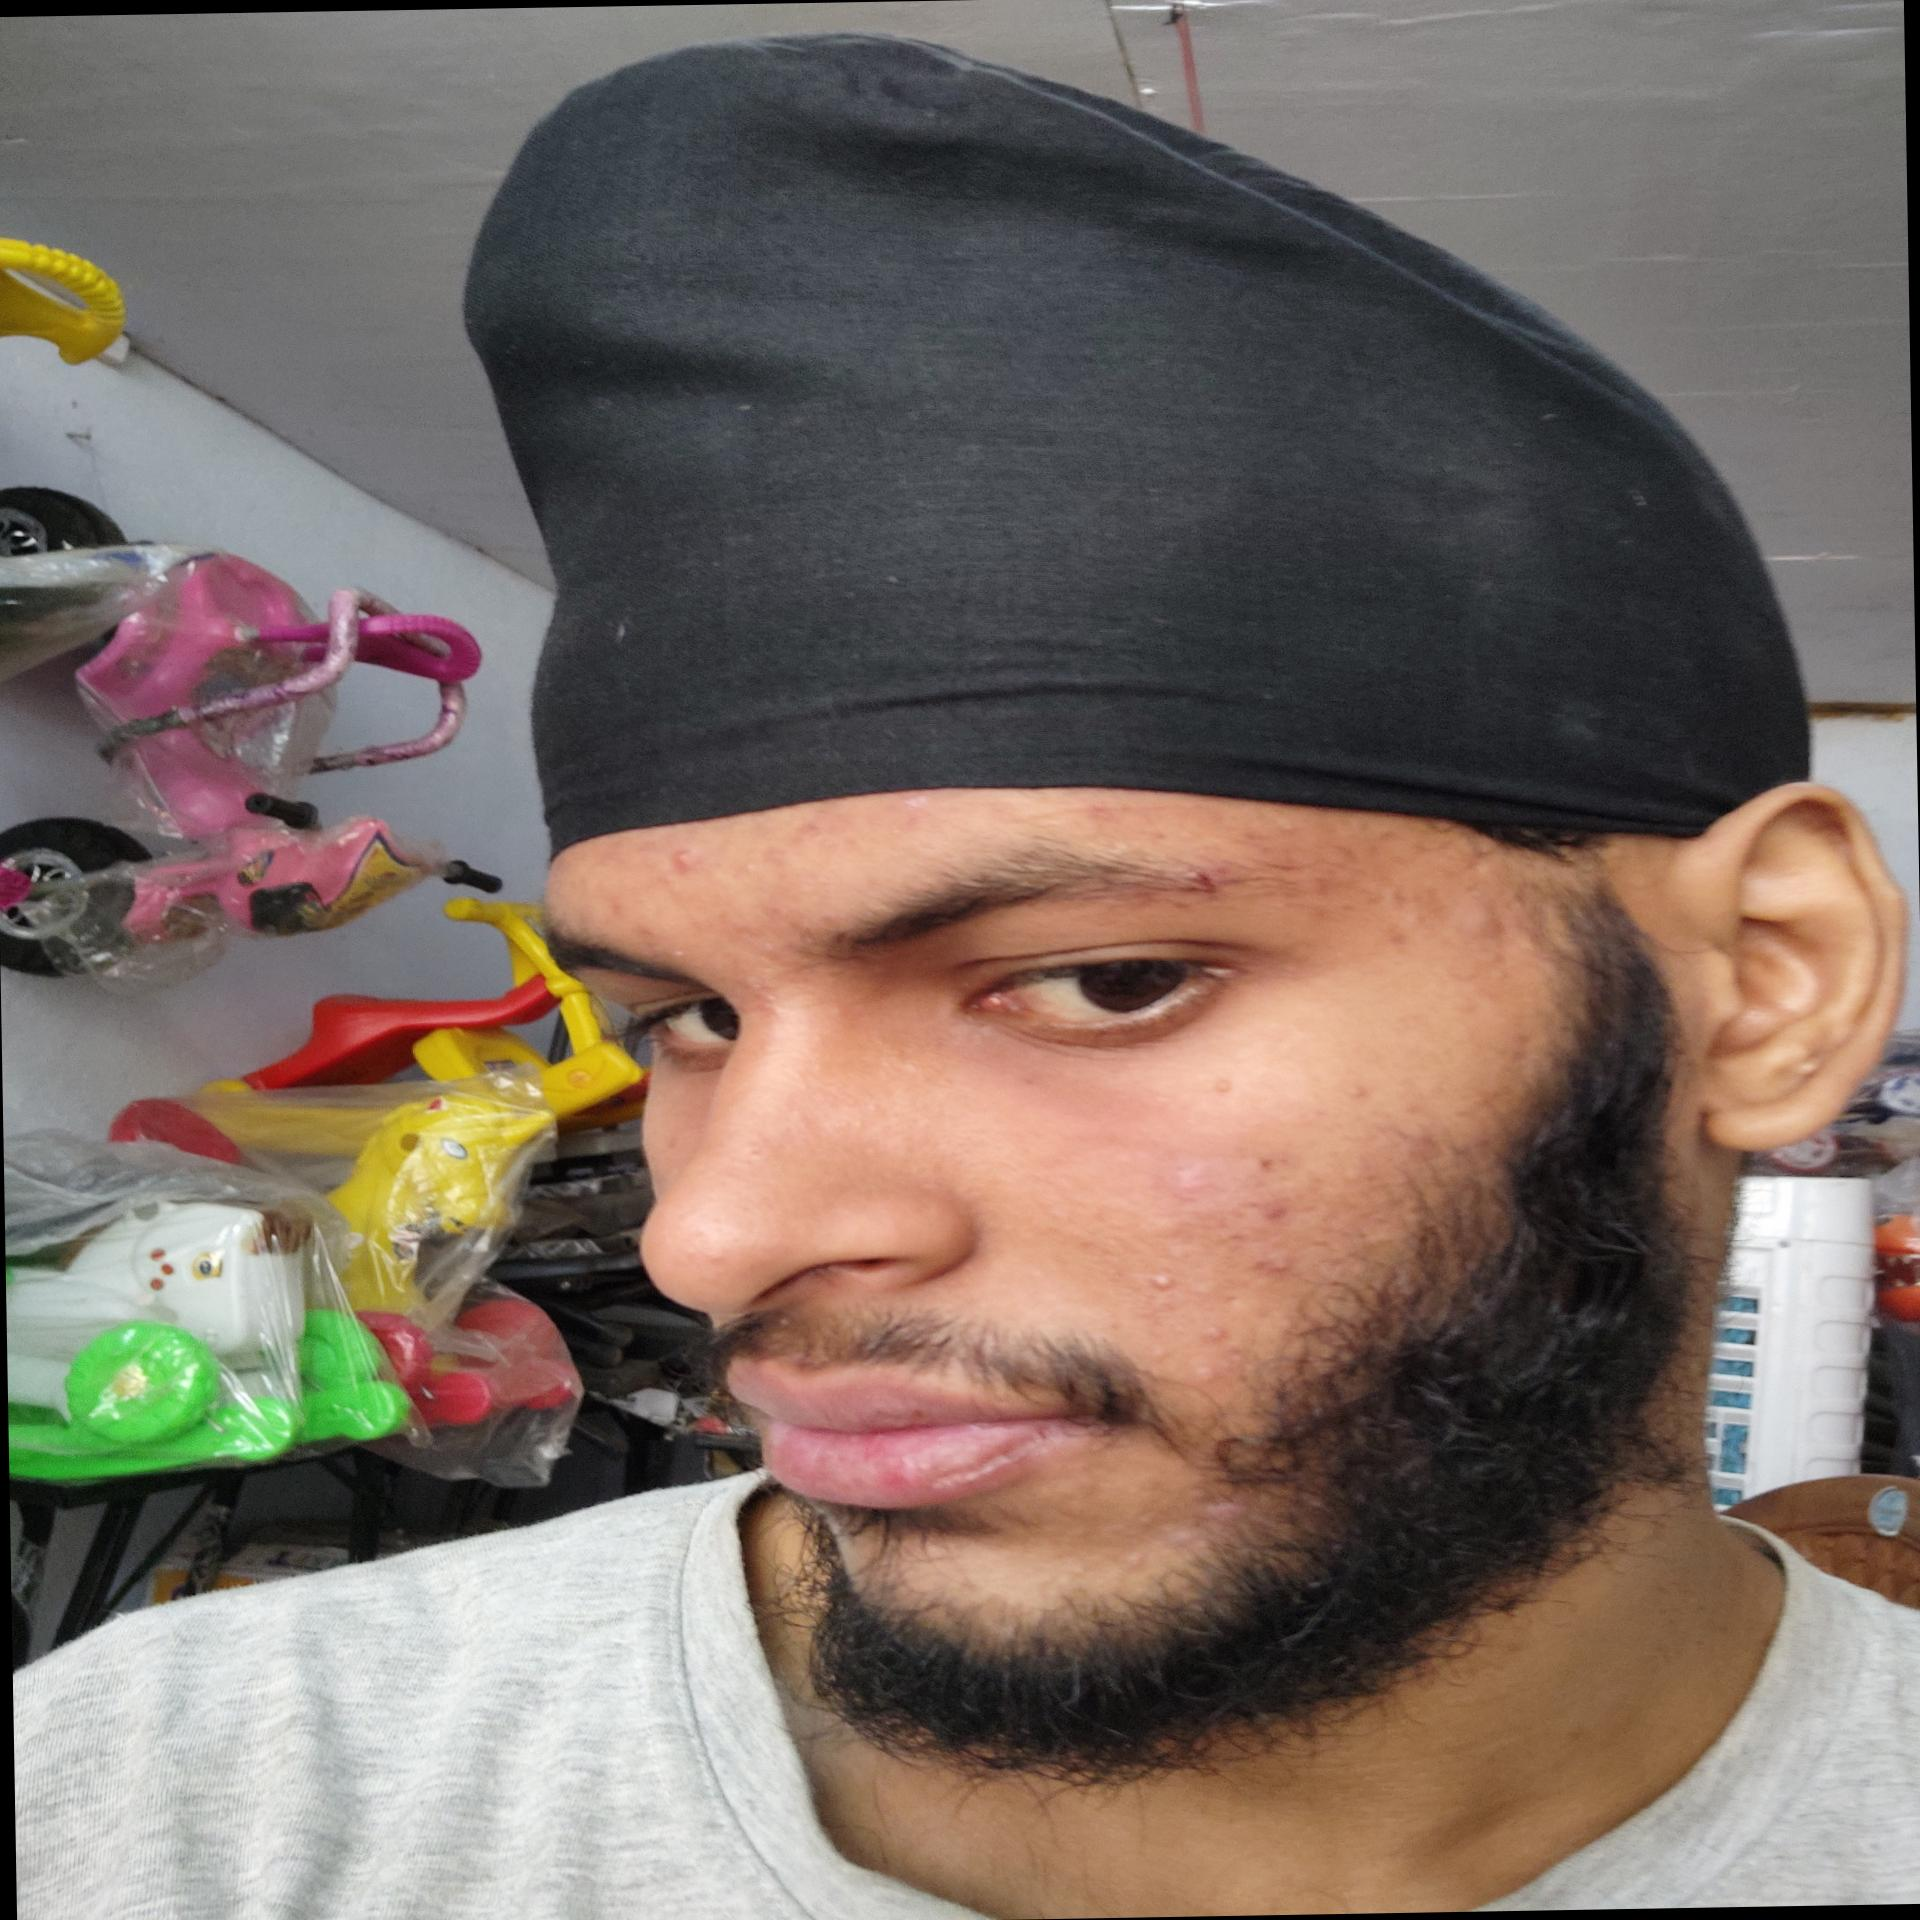Acne: (1157, 1148, 1224, 1250), (663, 837, 774, 888), (1447, 895, 1519, 967), (1173, 862, 1261, 907), (1233, 1152, 1296, 1189), (886, 789, 948, 826), (1197, 1067, 1257, 1104), (1248, 1190, 1306, 1227), (1099, 1540, 1155, 1575), (1335, 1078, 1387, 1111), (1194, 1491, 1247, 1524), (663, 934, 721, 962), (1194, 1315, 1238, 1350), (1261, 1243, 1305, 1278), (1129, 1264, 1176, 1294), (788, 818, 835, 847), (1152, 1517, 1204, 1542), (740, 930, 788, 956), (1178, 1361, 1220, 1385), (775, 1317, 798, 1329)
Englarged Pores: (972, 1113, 1139, 1252)
